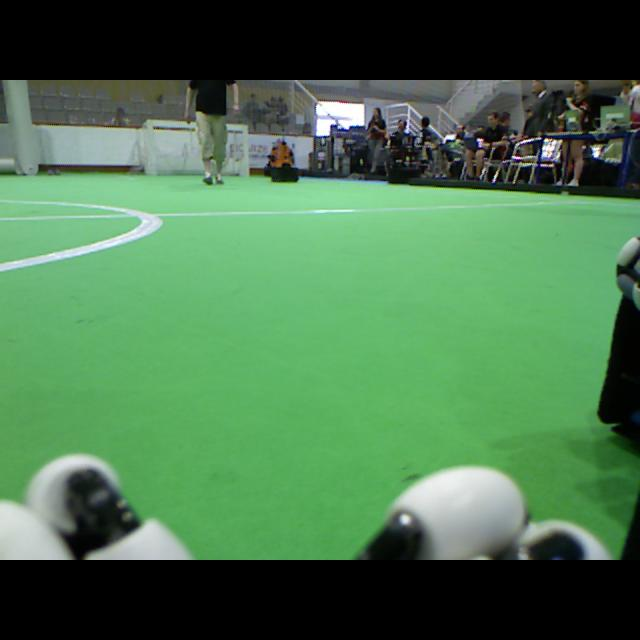goal: (148, 120, 157, 174), (244, 125, 249, 175)
robot: (271, 134, 298, 183), (264, 135, 280, 176)
